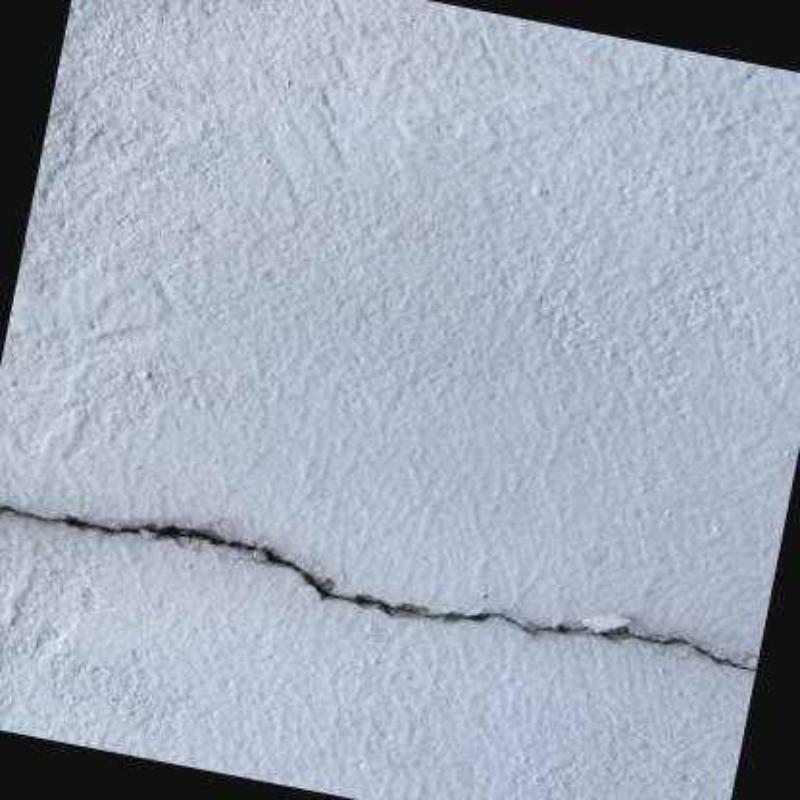pothole: (0, 506, 756, 671)
